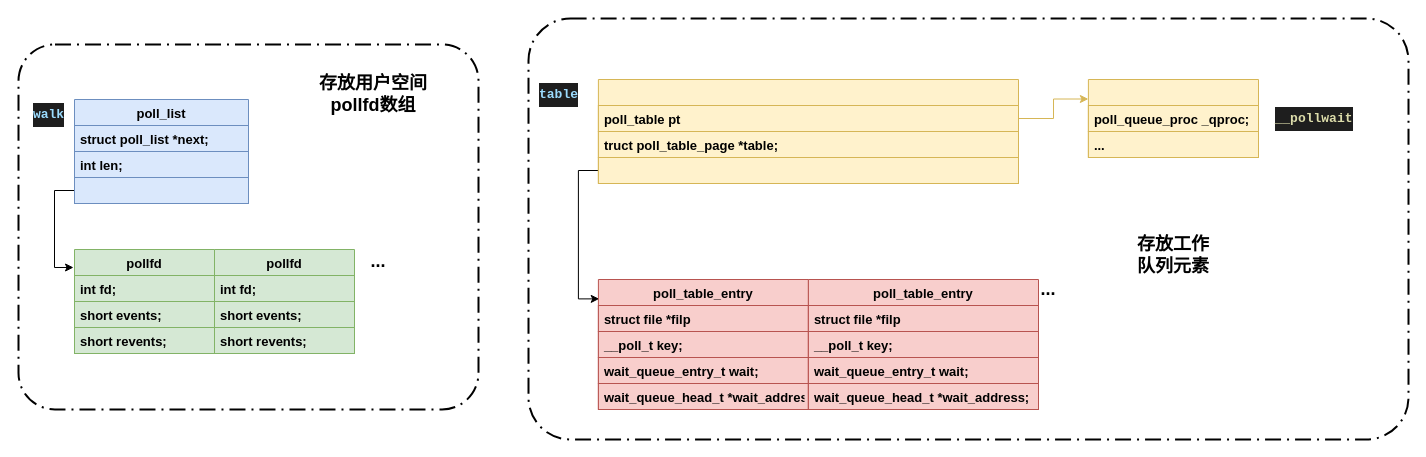
This 1426x457 diagram has some shape labels left out. Here are the shapes that lost their labels. From the top down, the box of each, then its label:
(597, 78, 1018, 184): poll_wqueues
(1087, 78, 1258, 158): poll_table
(74, 176, 248, 204): struct pollfd entries[0];
(597, 156, 1018, 184): struct poll_table_entry inline_entries[N_INLINE_POLL_ENTRIES];
